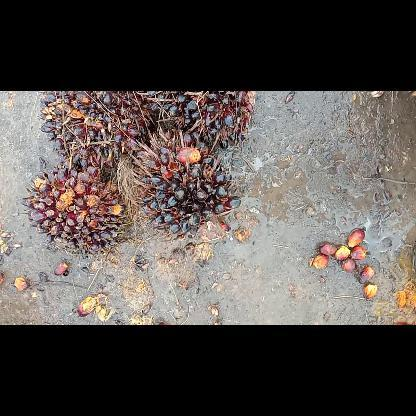TBS abnormal: (130, 125, 244, 239), (144, 91, 260, 155)
TBS masak: (21, 156, 137, 260), (34, 91, 158, 173)
